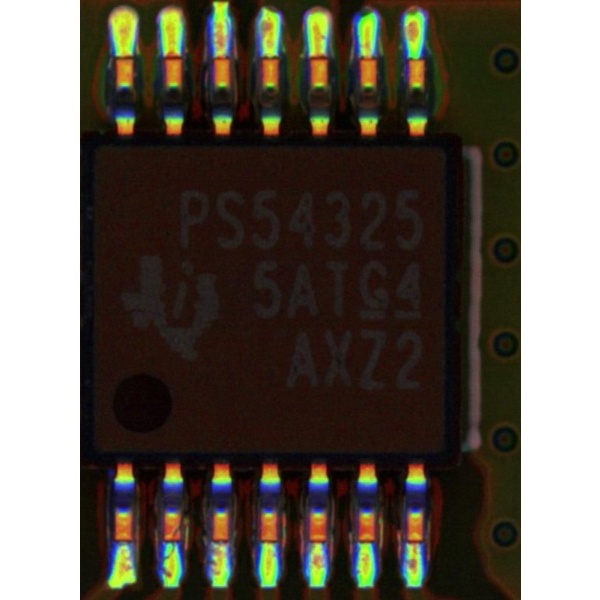Bad_podu: (118, 37, 129, 76), (166, 38, 179, 70), (312, 41, 323, 72), (362, 40, 370, 76), (409, 532, 418, 560)
